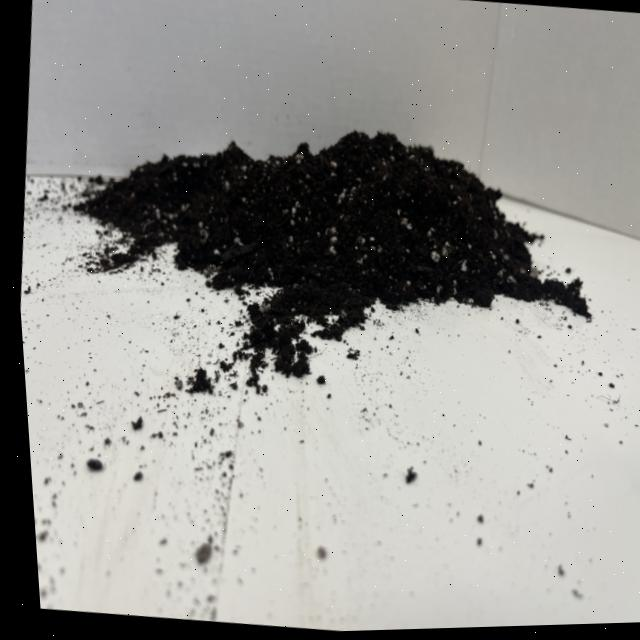soil: (46, 88, 618, 427)
